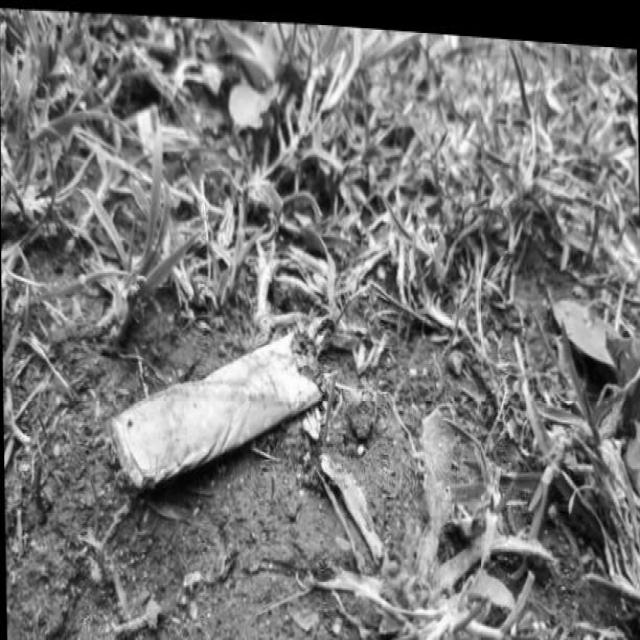cigarette: (103, 310, 341, 506)
